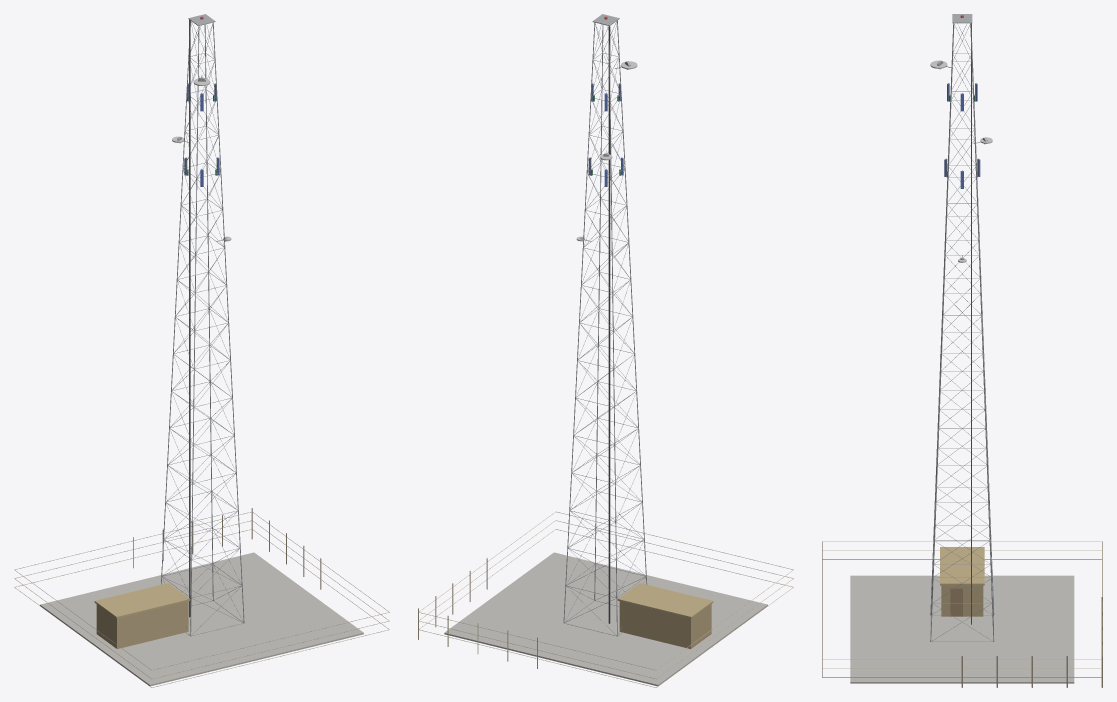
The model's file is tower (1).glb.
3 renders of one model, left to right at view 1: azimuth 30°, elevation 25°; view 2: azimuth 150°, elevation 25°; view 3: azimuth 270°, elevation 25°, orthographic.
Parts seen in each view (by area): view 1: CONC_PAD, SHELTER, CABLE_TRAY, LEG_SW, LEG_SE, LEG_NE, LEG_NW; view 2: CONC_PAD, SHELTER, CABLE_TRAY, LEG_NE, LEG_NW, LEG_SE, LEG_SW; view 3: CONC_PAD, SHELTER, LEG_SE, LEG_NE, LEG_SW, LEG_NW, CABLE_TRAY, CABLE_01.
Boxes of the visible parts, x1,y1,x2,y2 form: CONC_PAD: (40,552,363,686); SHELTER: (94,583,190,648); CABLE_TRAY: (189,19,190,617); LEG_SW: (190,26,199,636); LEG_SE: (213,22,244,623); LEG_NE: (204,24,213,600); LEG_NW: (161,20,190,584); CONC_PAD: (444,552,767,686); SHELTER: (617,583,713,648); CABLE_TRAY: (608,26,610,623); LEG_NE: (563,22,595,622); LEG_NW: (609,43,617,636); LEG_SE: (594,25,603,600); LEG_SW: (617,20,647,584); CONC_PAD: (850,575,1074,683); SHELTER: (940,547,984,616); LEG_SE: (930,23,954,641); LEG_NE: (970,23,994,641); LEG_SW: (930,25,953,614); LEG_NW: (972,42,994,614); CABLE_TRAY: (971,23,971,624); CABLE_01: (971,23,971,623).
Size of what is drawn, in the model's own units: 20.06 by 48.46 by 20.06.
